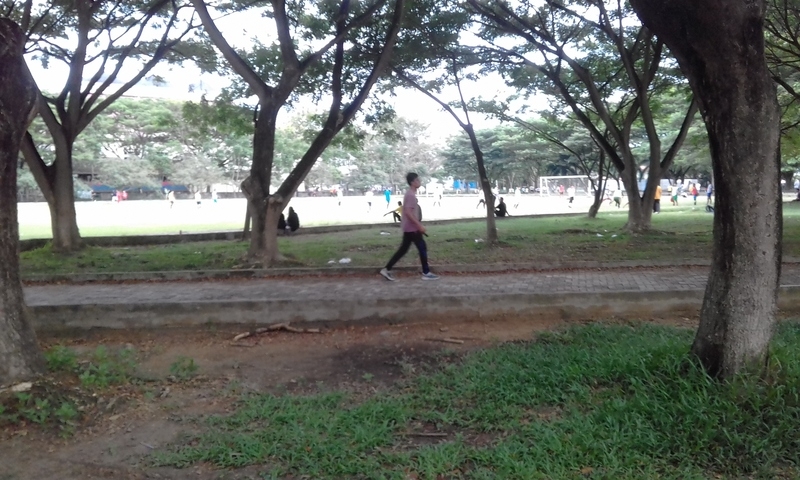person: (377, 170, 444, 281)
